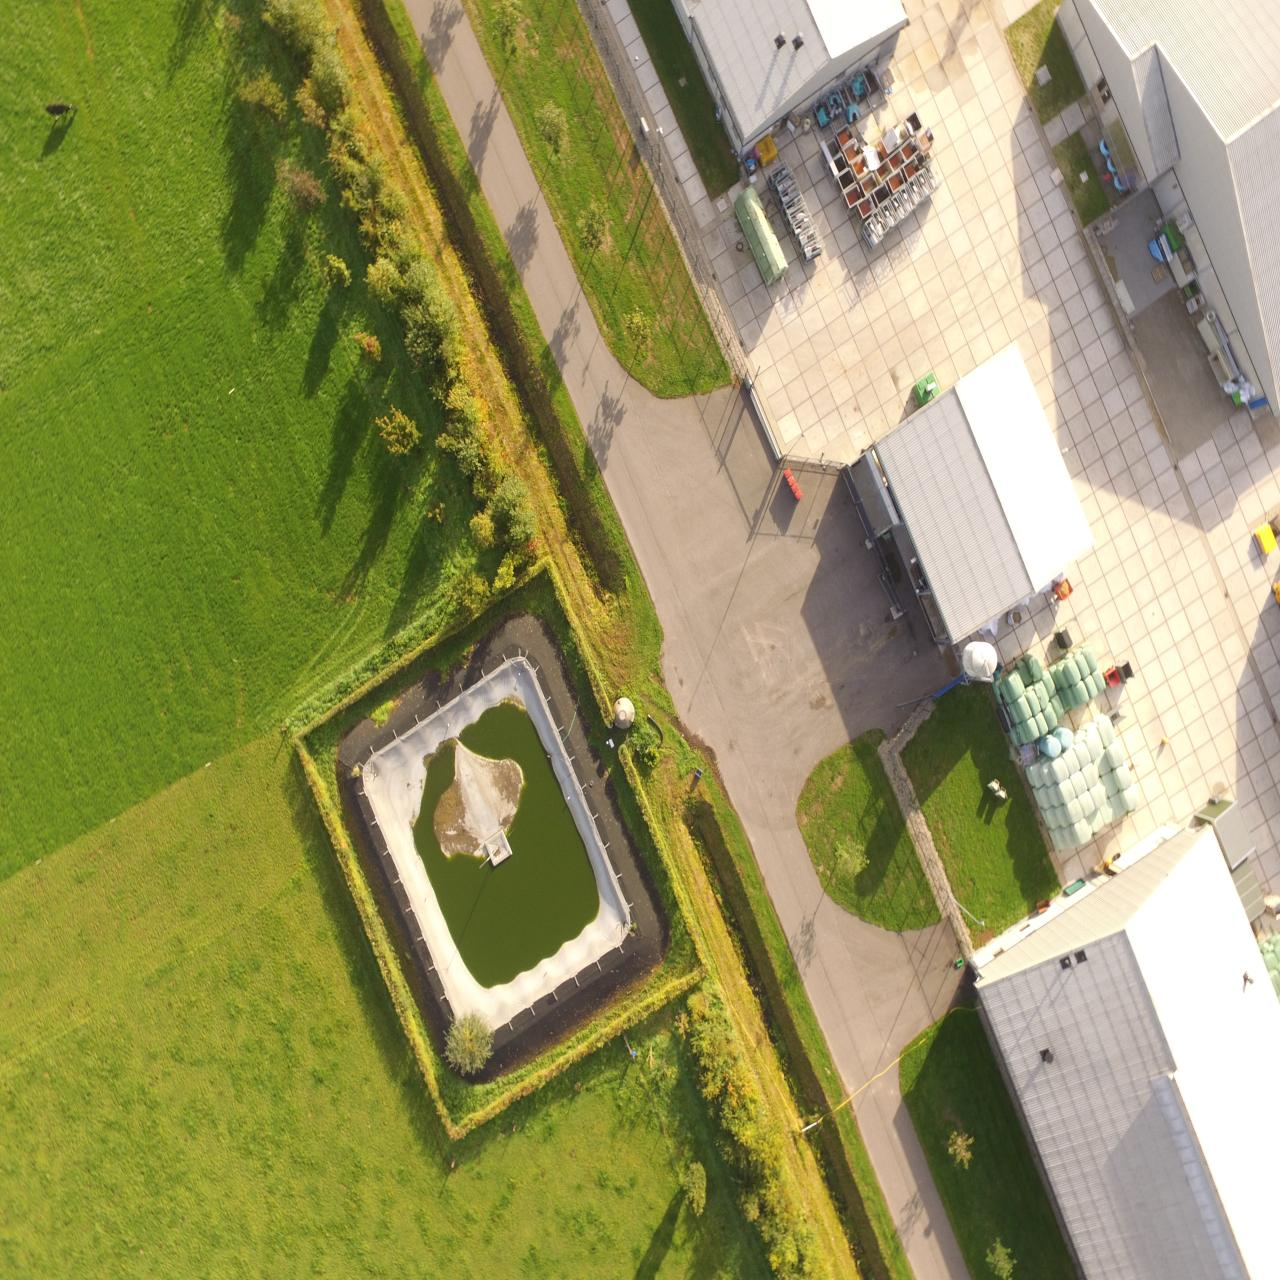cow: (44, 99, 80, 120)
